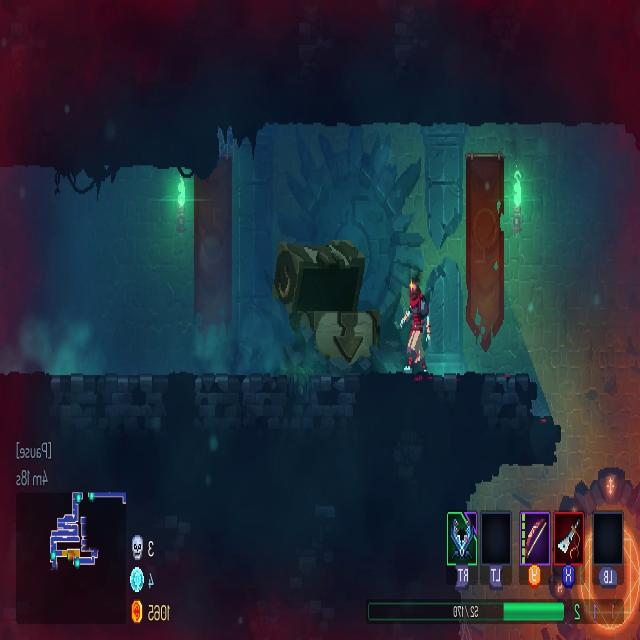agents: (402, 277, 432, 376)
